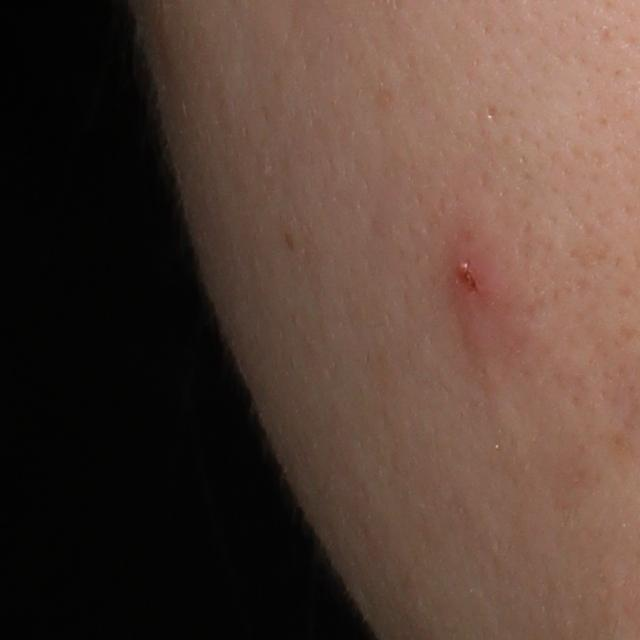papule: (449, 249, 490, 312)
